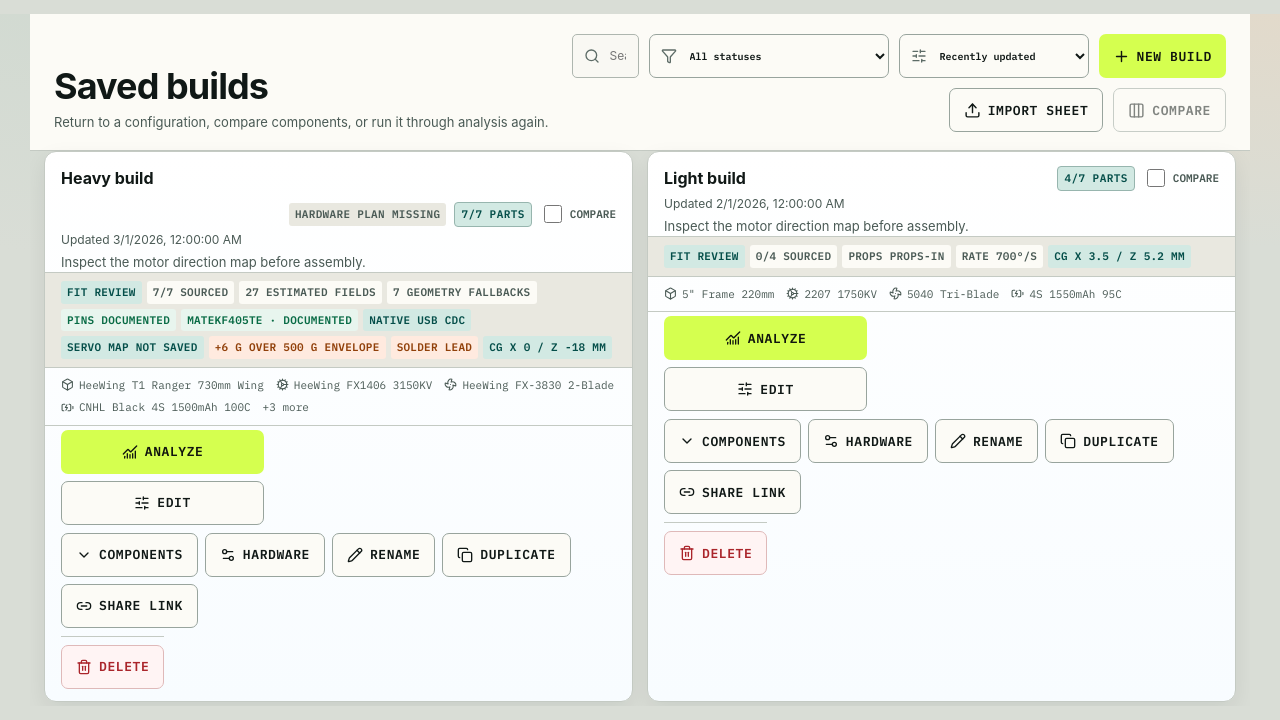
saved builds can be sorted by planning totals and isolated by envelope
Expected: the heading "Heavy build" is shown, [61,168,154,188]
Select "Planning weight · low first" in the dropdown named "Sort saved builds" at (994, 56), box [898,34,1088,78]
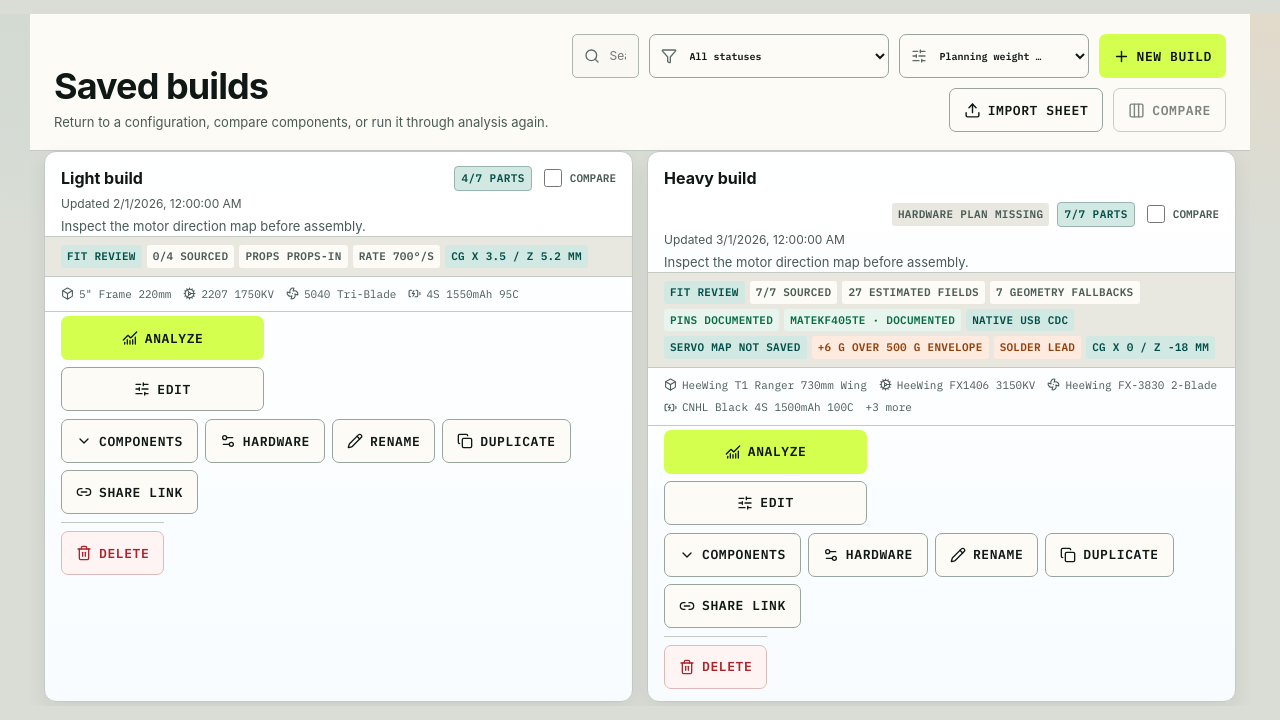
Select "Catalog price · high first" in the dropdown named "Sort saved builds" at (994, 56), box [898,34,1088,78]
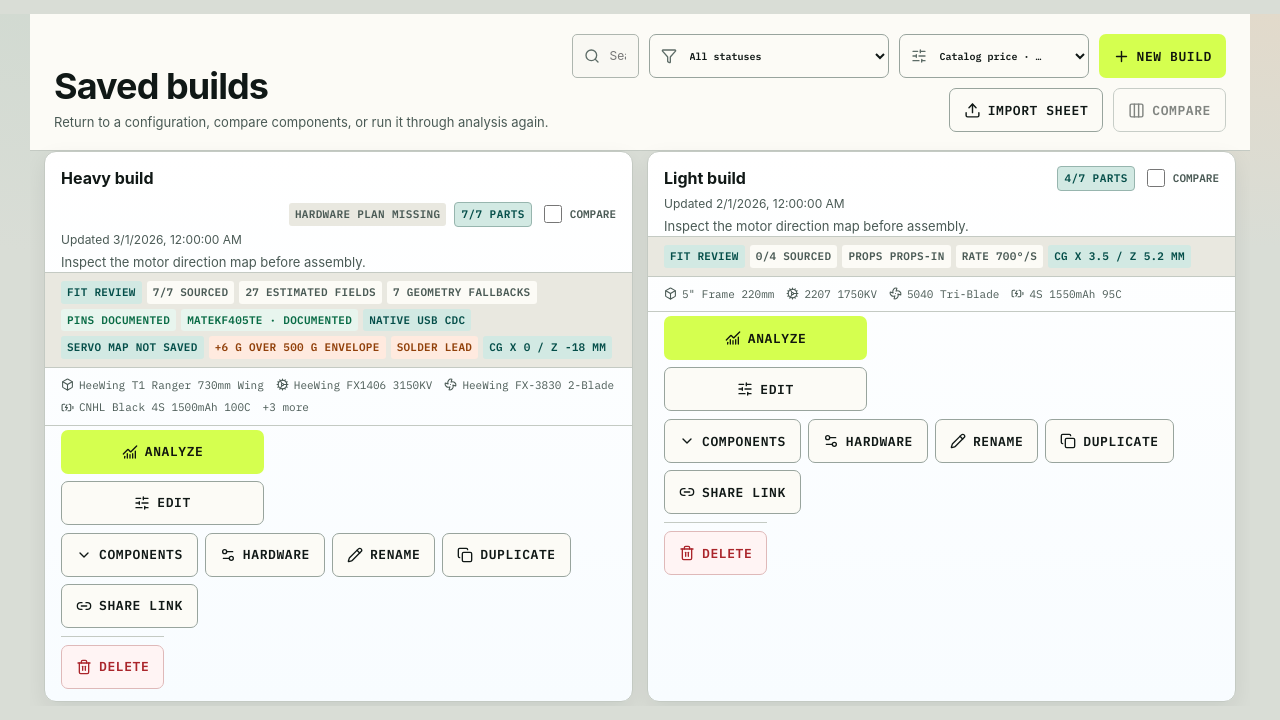
Select "Outside takeoff envelope" in the dropdown named "Filter saved builds by status" at (768, 56), box [648,34,888,78]
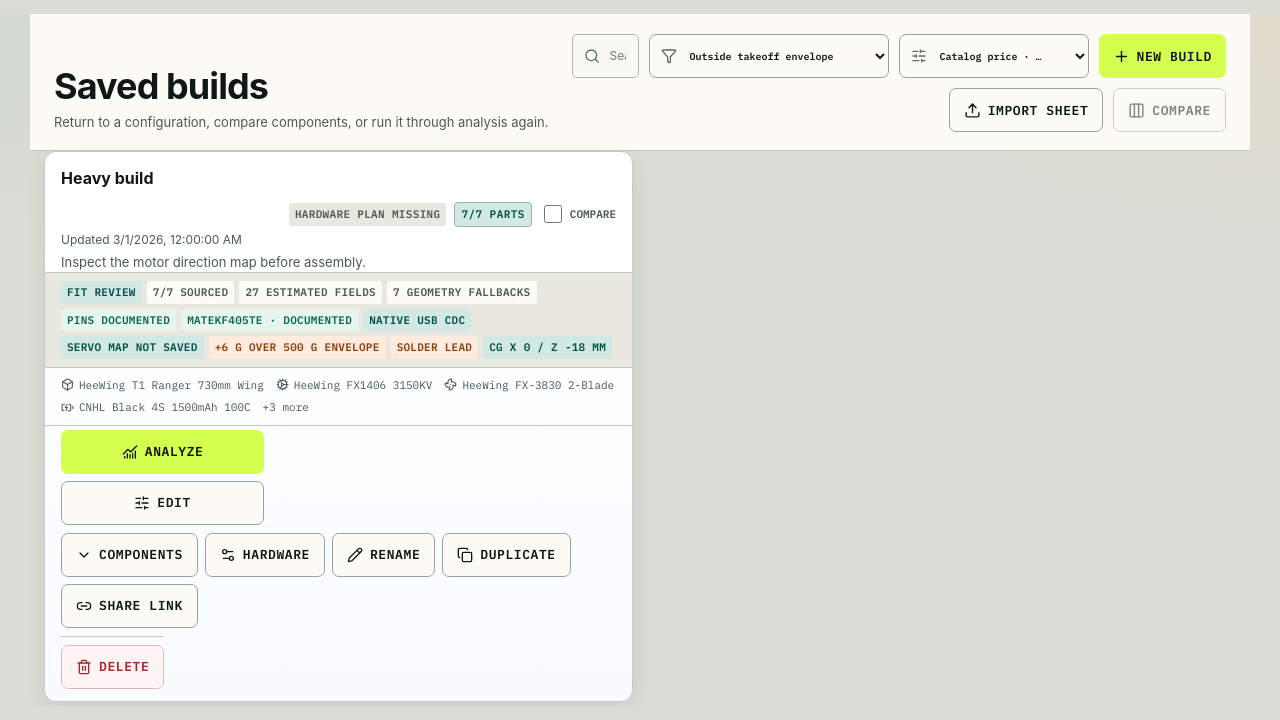
Expected: the heading "Heavy build" is shown, [61,168,154,188]
Expected: the heading "Light build" is gone
